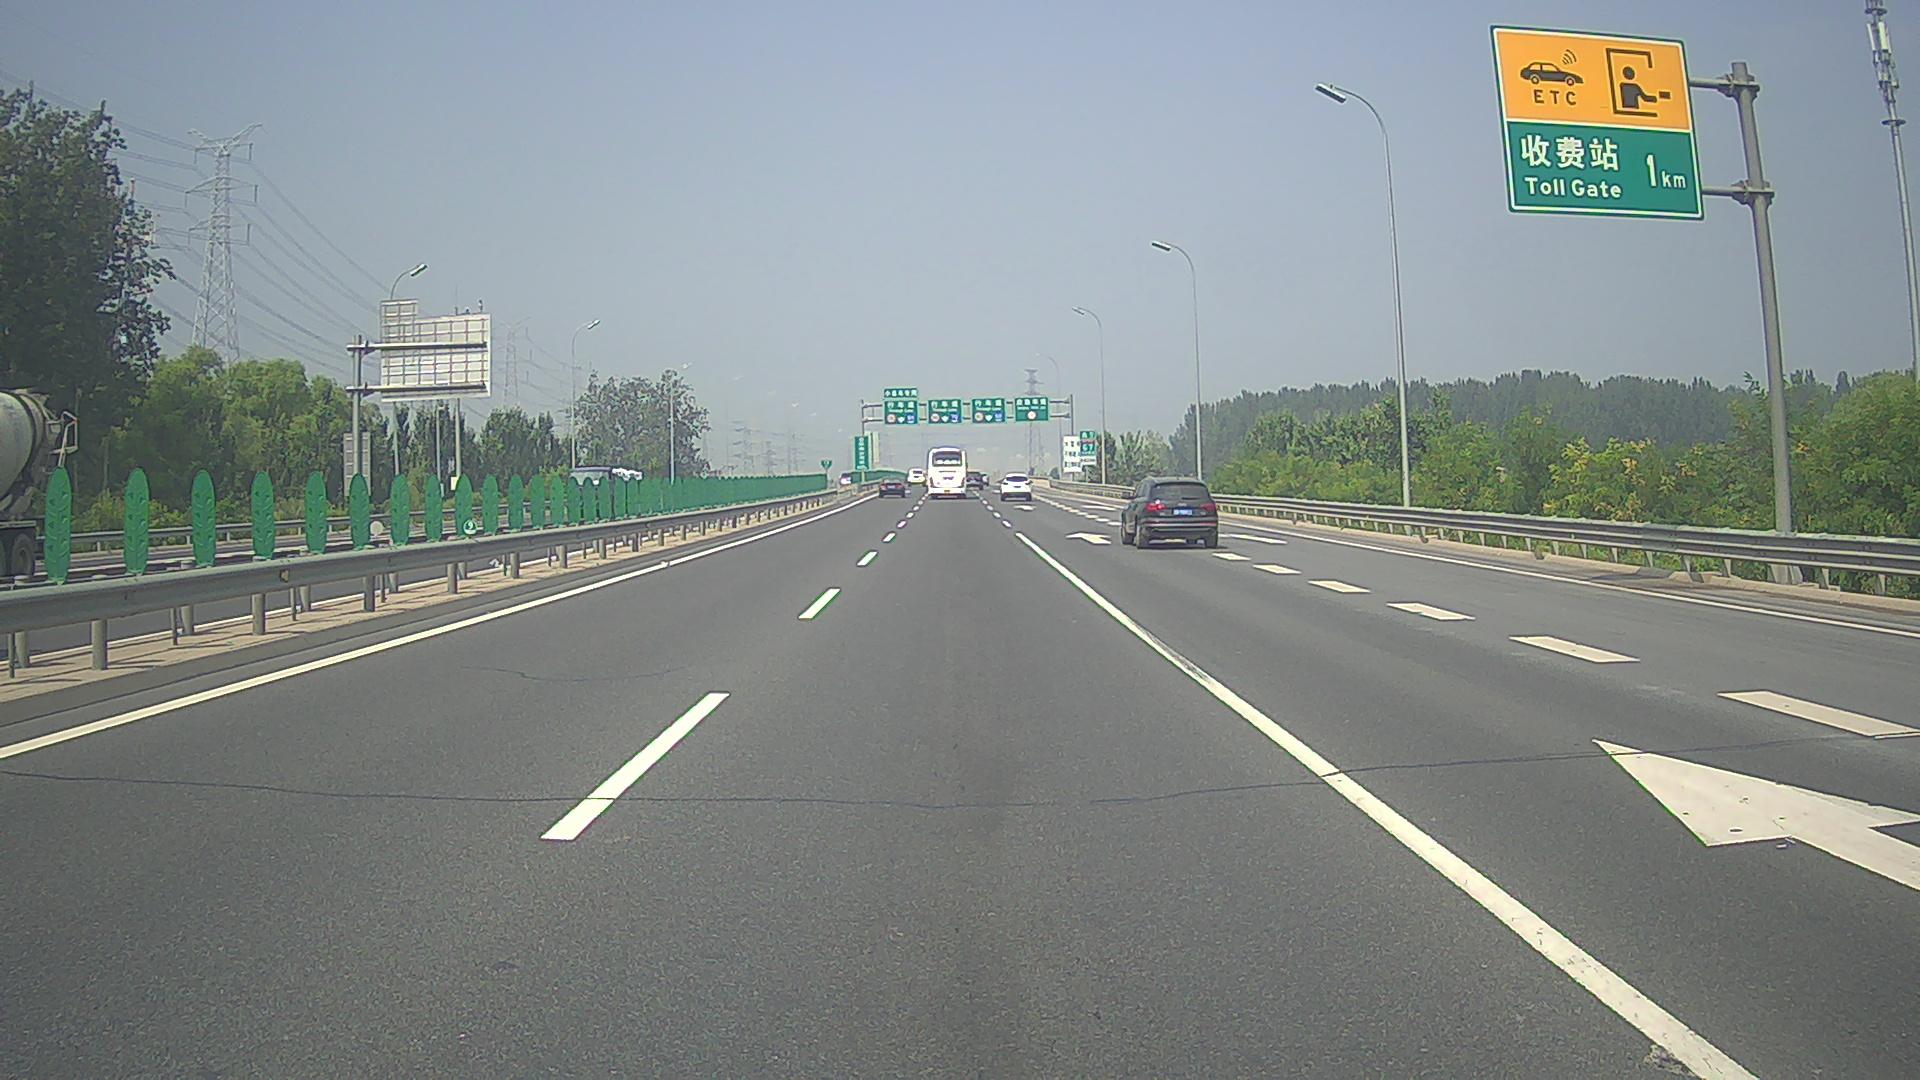bus: (927, 446, 967, 497)
car: (1120, 476, 1218, 549), (1000, 472, 1033, 501), (878, 476, 906, 497), (906, 468, 926, 487), (963, 471, 982, 489), (839, 472, 857, 487), (971, 472, 989, 487)
ignore: (0, 386, 76, 576), (564, 465, 640, 518)
